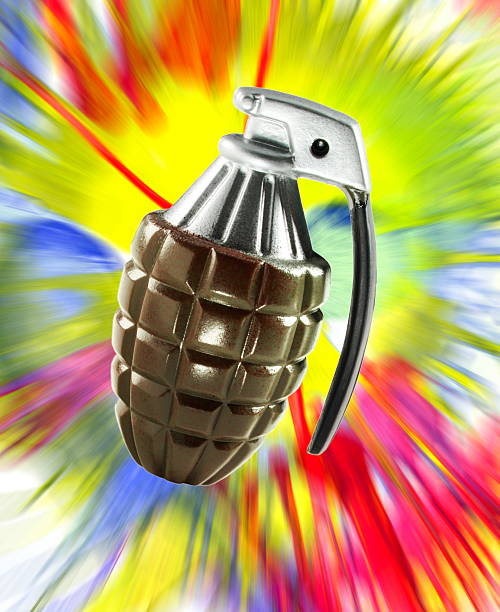e1: (112, 86, 378, 488)
